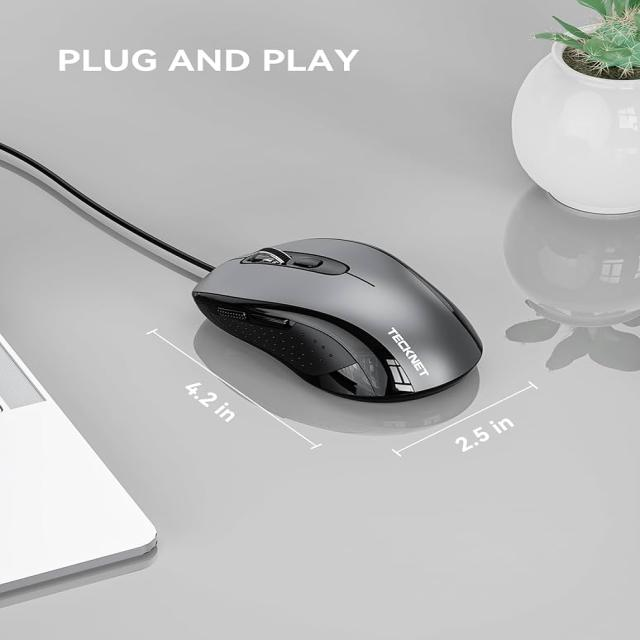souris: (81, 197, 521, 444)
